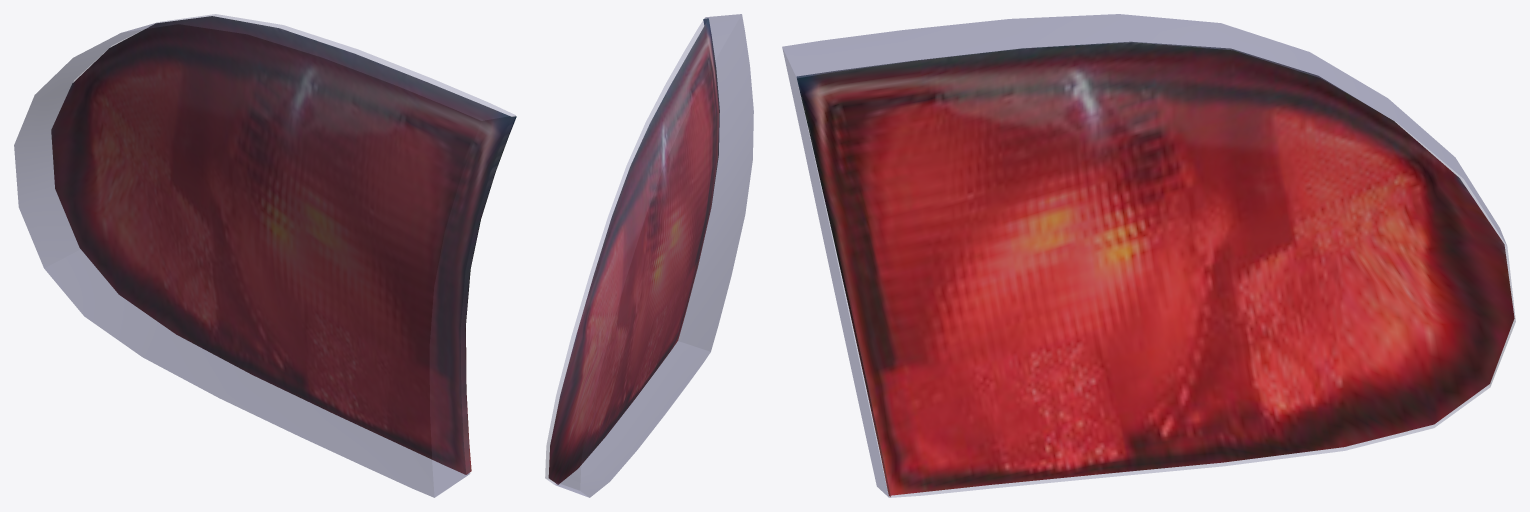
The picture shows the model from 3 angles, left to right: view 1: azimuth 30°, elevation 25°; view 2: azimuth 150°, elevation 25°; view 3: azimuth 270°, elevation 25°; orthographic projection. The views are drawn at different scales.
Visible parts, largest first — view 1: U234_541D_R_U234_541D_R_2_DTaSI, U234_541D_R_1_N_U234_541D_R; view 2: U234_541D_R_U234_541D_R_2_DTaSI, U234_541D_R_1_N_U234_541D_R; view 3: U234_541D_R_1_N_U234_541D_R, U234_541D_R_U234_541D_R_2_DTaSI.
Part boxes in pixels (bbox=[...]): U234_541D_R_U234_541D_R_2_DTaSI: bbox=[14, 14, 515, 497]; U234_541D_R_1_N_U234_541D_R: bbox=[51, 16, 516, 474]; U234_541D_R_U234_541D_R_2_DTaSI: bbox=[545, 14, 753, 497]; U234_541D_R_1_N_U234_541D_R: bbox=[548, 18, 719, 484]; U234_541D_R_1_N_U234_541D_R: bbox=[796, 41, 1514, 496]; U234_541D_R_U234_541D_R_2_DTaSI: bbox=[782, 14, 1515, 497].
Size of the model in its own units: 8.87 by 19.44 by 29.14.
